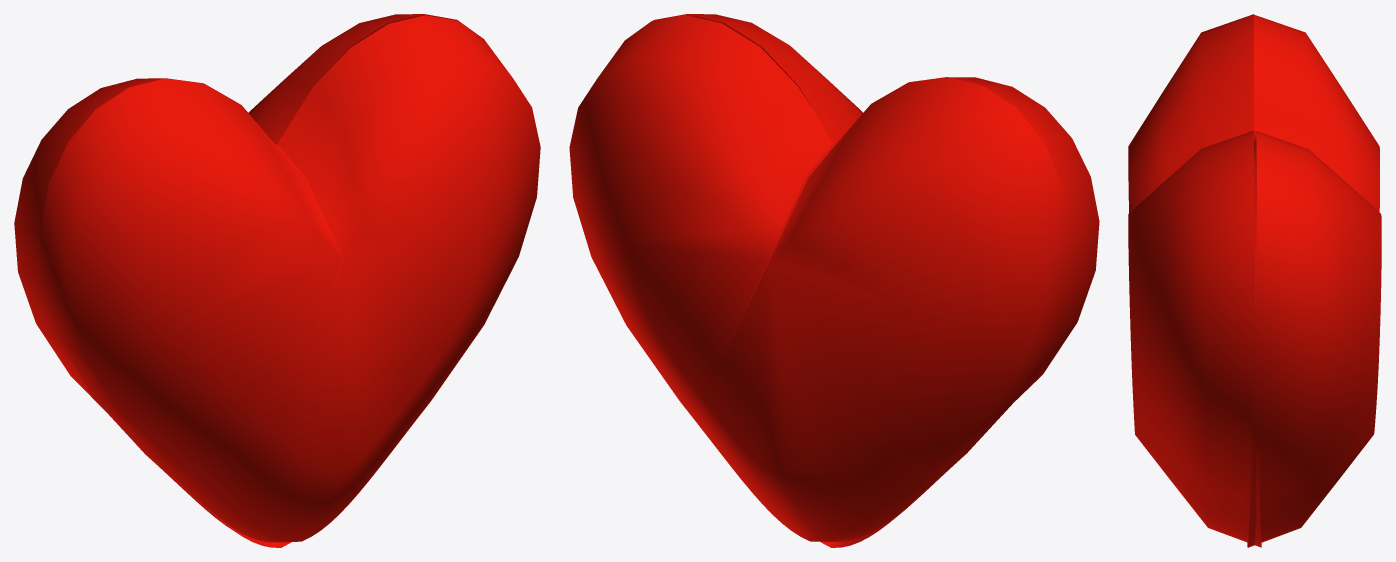
Rendered from heart_anima†ion_healthy.glb.
3 renders of one model, left to right at view 1: azimuth 30°, elevation 25°; view 2: azimuth 150°, elevation 25°; view 3: azimuth 270°, elevation 25°, orthographic. The views are drawn at different scales.
Parts seen in each view (by area): view 1: obj_0.001; view 2: obj_0.001; view 3: obj_0.001.
Part boxes in pixels (x1,y1,x2,y2): obj_0.001: [14, 14, 540, 547]; obj_0.001: [569, 14, 1099, 547]; obj_0.001: [1128, 14, 1381, 547].
Bounding box in the file's own units: 7.51 × 7.5 × 3.73.
